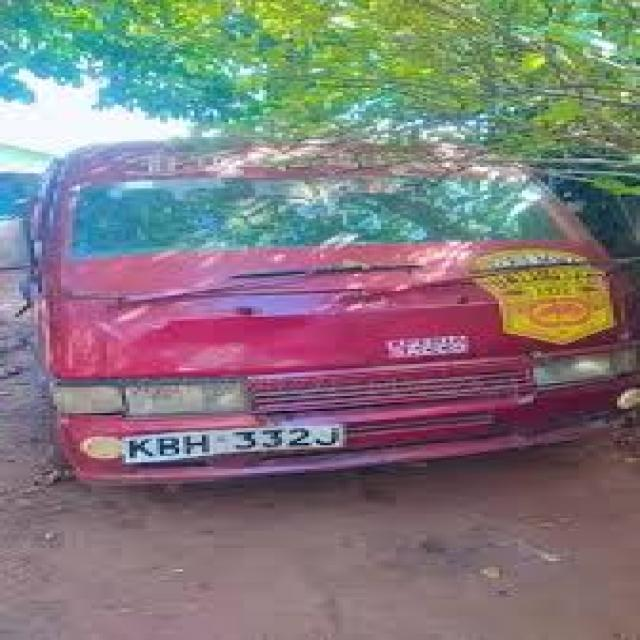matatu: (20, 80, 640, 508)
